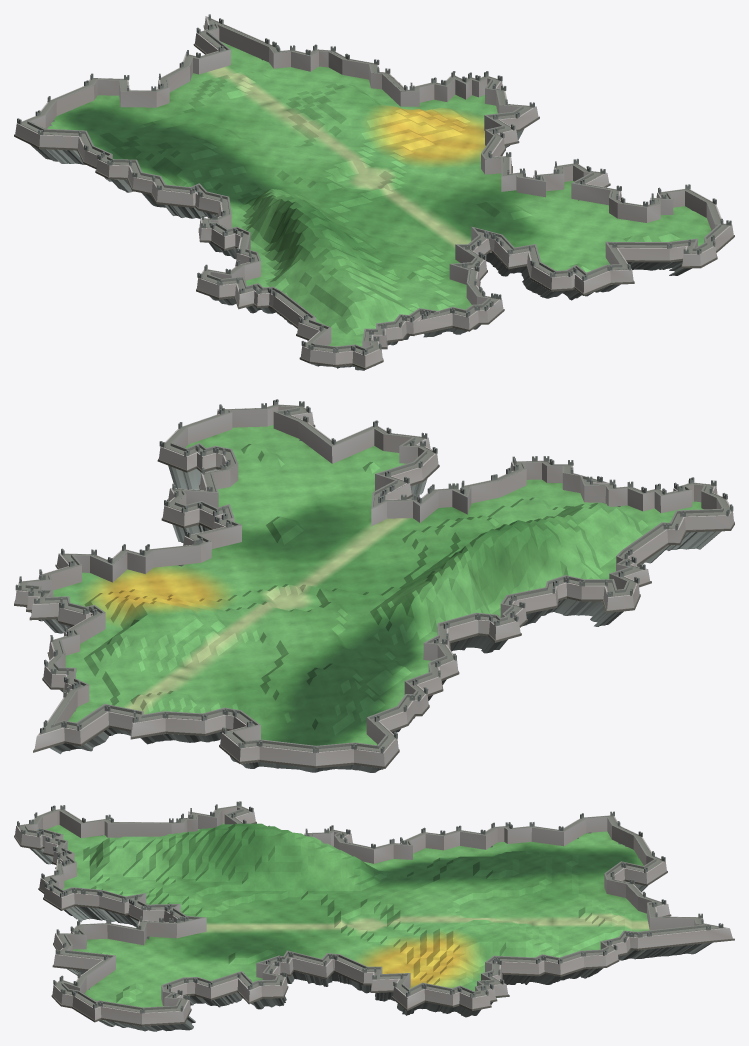
3 renders of one model, top to bottom at view 1: azimuth 30°, elevation 25°; view 2: azimuth 150°, elevation 25°; view 3: azimuth 270°, elevation 25°, orthographic. The views are drawn at different scales.
Visible parts, largest first — view 1: ground_b79397b8; view 2: ground_b79397b8; view 3: ground_b79397b8.
Boxes of the visible parts, x1=… form: ground_b79397b8: x1=14, y1=14, x2=734, y2=370; ground_b79397b8: x1=14, y1=399, x2=734, y2=772; ground_b79397b8: x1=14, y1=801, x2=734, y2=1031.
Bounding box in the file's own units: 113 × 14.43 × 164.
3 materials, 1 textured.
